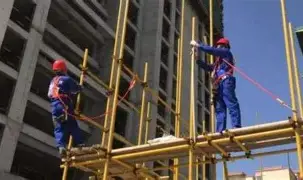safety belt: (207, 58, 239, 84), (47, 77, 73, 99)
